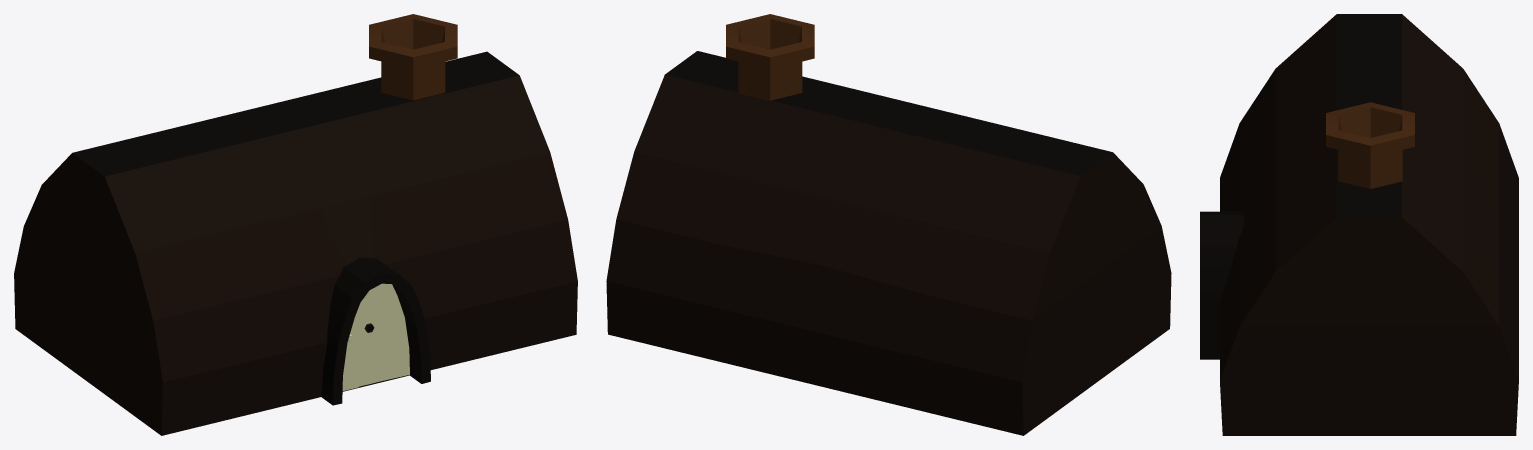
File: HouseToOpen.fbx
The picture shows the model from 3 angles, left to right: view 1: azimuth 30°, elevation 25°; view 2: azimuth 150°, elevation 25°; view 3: azimuth 270°, elevation 25°; orthographic projection.
Visible parts, largest first — view 1: House, Door; view 2: House; view 3: House.
Part boxes in pixels (bbox=[...]): House: bbox=[14, 14, 577, 435]; Door: bbox=[342, 283, 409, 391]; House: bbox=[606, 14, 1171, 435]; House: bbox=[1200, 14, 1518, 435].
Bounding box in the file's own units: 847 × 525 × 562.
